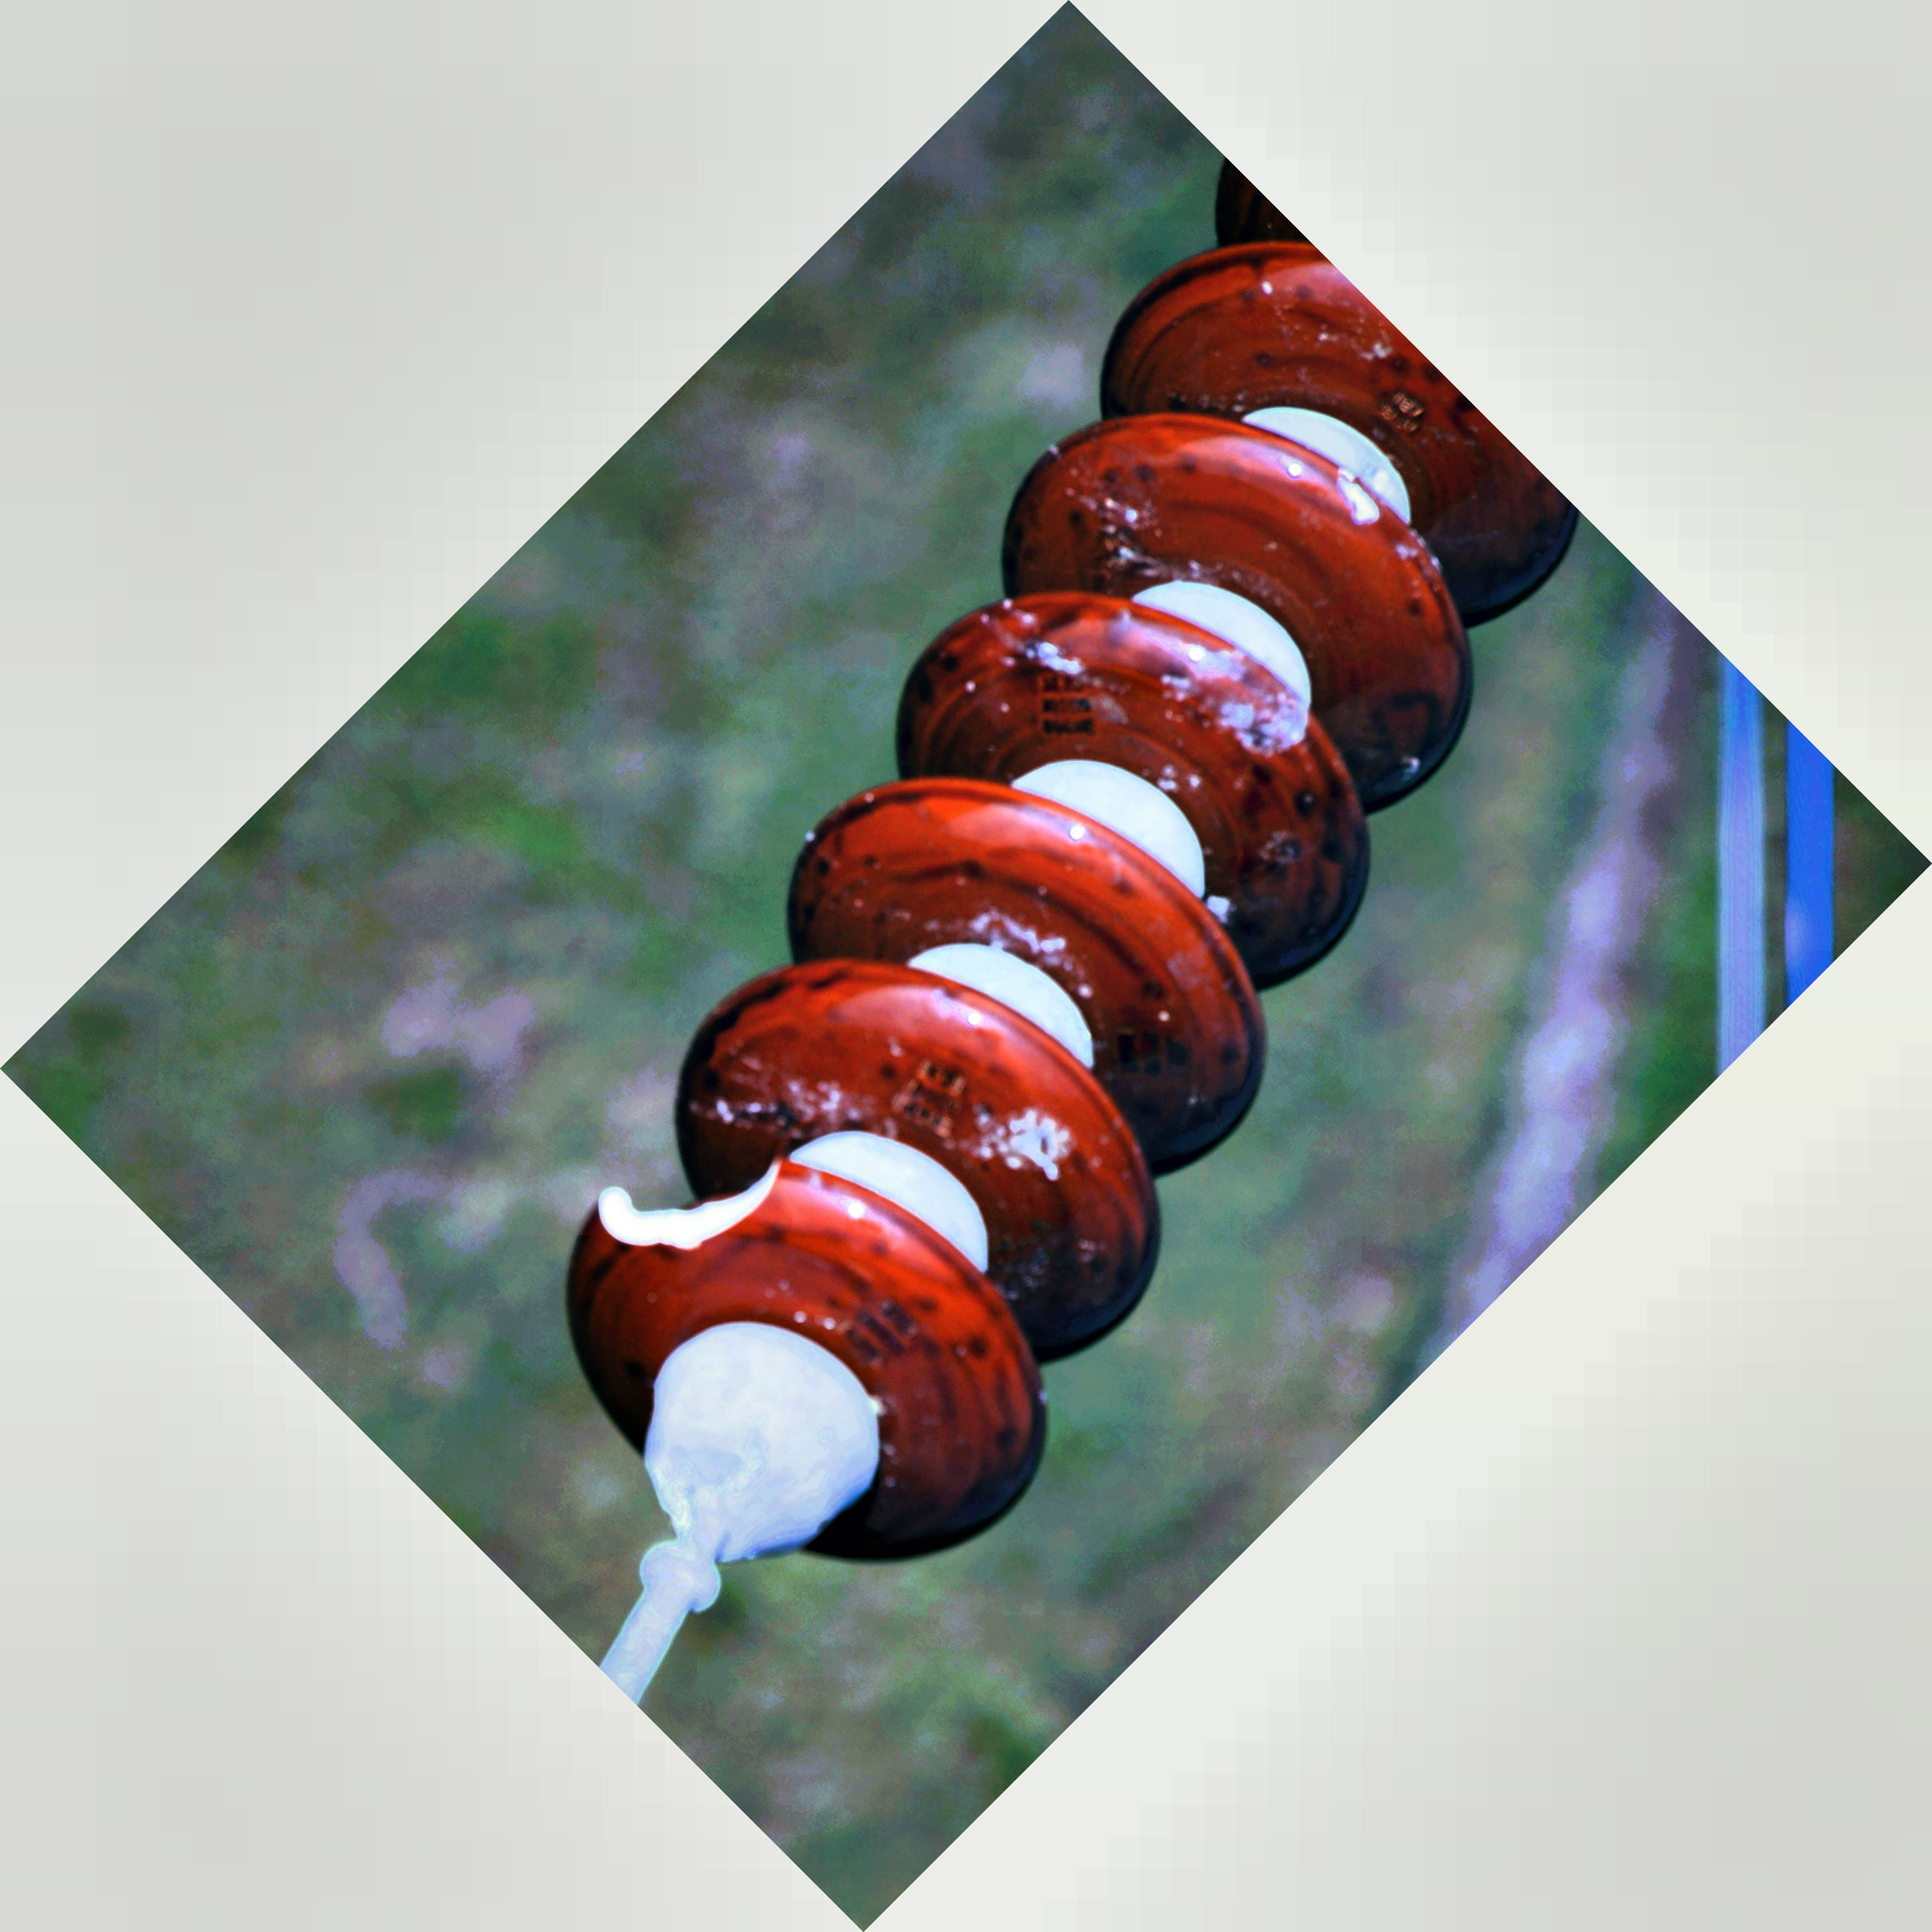insulator breakage: (550, 1138, 1047, 1573)
